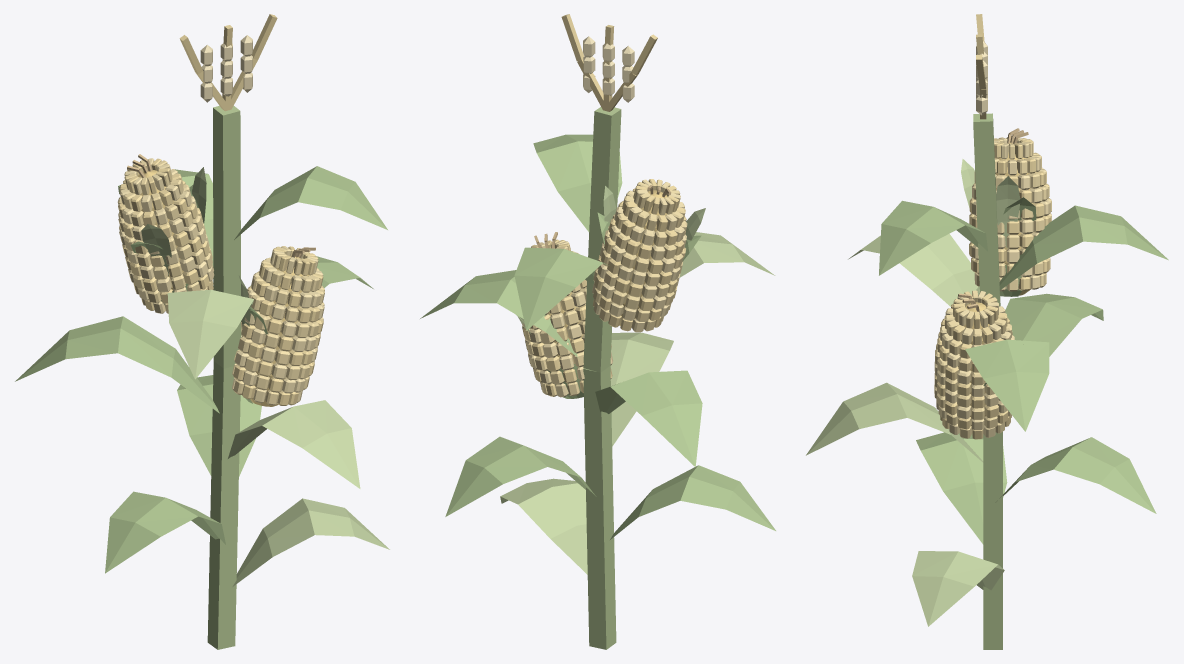
Rendered from crafted-crop-corn-3.glb.
The picture shows the model from 3 angles, left to right: view 1: azimuth 30°, elevation 25°; view 2: azimuth 150°, elevation 25°; view 3: azimuth 270°, elevation 25°; orthographic projection. The views are drawn at different scales.
Parts seen in each view (by area): view 1: stalk-0, stalk-1, corn-leaf-4, corn-leaf-3, corn-leaf-6, corn-leaf-1, corn-leaf-0, corn-leaf-8, corn-leaf-2, corn-leaf-7, corn-ear-1-husk-tip-1, corn-leaf-5; view 2: stalk-0, corn-leaf-4, stalk-1, corn-leaf-0, corn-leaf-7, corn-leaf-2, corn-leaf-1, corn-leaf-8, corn-leaf-3, corn-leaf-5, corn-leaf-6; view 3: corn-leaf-5, corn-leaf-7, corn-leaf-1, corn-leaf-0, corn-leaf-3, corn-leaf-2, stalk-0, corn-leaf-8, stalk-1, corn-leaf-4, corn-leaf-6, corn-ear-1-husk-tip.
Boxes of the visible parts, x1,y1,x2,y2 form: stalk-0: [207, 361, 240, 649]; stalk-1: [213, 106, 241, 368]; corn-leaf-4: [15, 316, 219, 413]; corn-leaf-3: [228, 400, 360, 488]; corn-leaf-6: [167, 289, 253, 379]; corn-leaf-1: [105, 491, 225, 573]; corn-leaf-0: [232, 498, 389, 586]; corn-leaf-8: [234, 166, 387, 239]; corn-leaf-2: [177, 375, 261, 476]; corn-leaf-7: [118, 169, 213, 266]; corn-ear-1-husk-tip-1: [141, 224, 171, 275]; corn-leaf-5: [250, 256, 373, 288]; stalk-0: [583, 366, 616, 649]; corn-leaf-4: [595, 370, 702, 466]; stalk-1: [583, 107, 621, 372]; corn-leaf-0: [500, 478, 587, 574]; corn-leaf-7: [514, 247, 608, 330]; corn-leaf-2: [445, 436, 596, 516]; corn-leaf-1: [610, 465, 775, 539]; corn-leaf-8: [533, 134, 622, 231]; corn-leaf-3: [610, 332, 673, 446]; corn-leaf-5: [420, 270, 579, 358]; corn-leaf-6: [610, 232, 775, 327]; corn-leaf-5: [965, 339, 1049, 431]; corn-leaf-7: [999, 205, 1168, 290]; corn-leaf-1: [916, 432, 1007, 544]; corn-leaf-0: [912, 551, 1004, 626]; corn-leaf-3: [806, 382, 983, 462]; corn-leaf-2: [995, 437, 1156, 513]; stalk-0: [983, 432, 1002, 649]; corn-leaf-8: [879, 200, 987, 275]; stalk-1: [973, 113, 1000, 306]; corn-leaf-4: [1005, 293, 1103, 356]; corn-leaf-6: [848, 233, 977, 306]; corn-ear-1-husk-tip: [996, 176, 1020, 248].
Bounding box in the file's own units: 0.6414 × 1.19 × 0.644.
